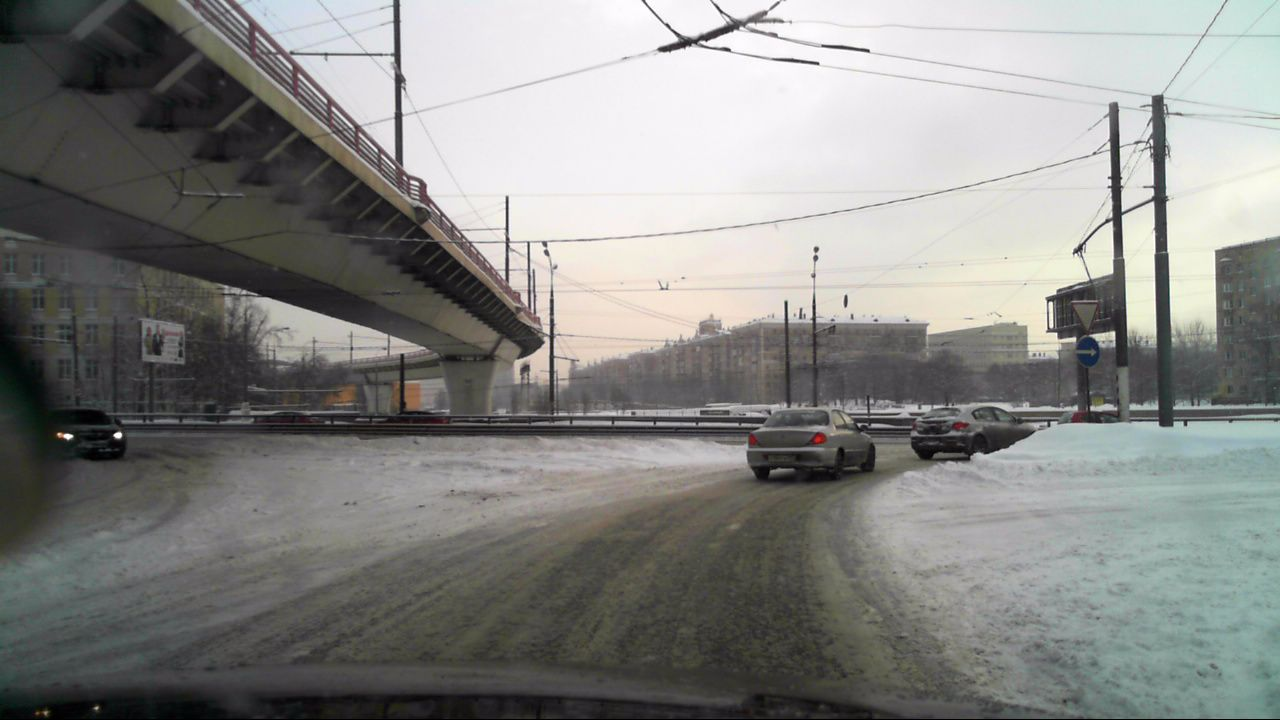Turn Right: (1075, 336, 1099, 368)
